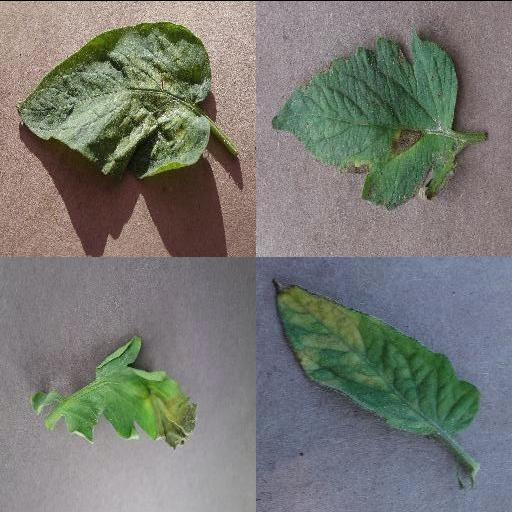Early Blight: (270, 29, 464, 209)
Late Blight: (63, 336, 199, 450)
Leaf Mold: (272, 279, 480, 437)
Spider Mites: (16, 20, 212, 177)
